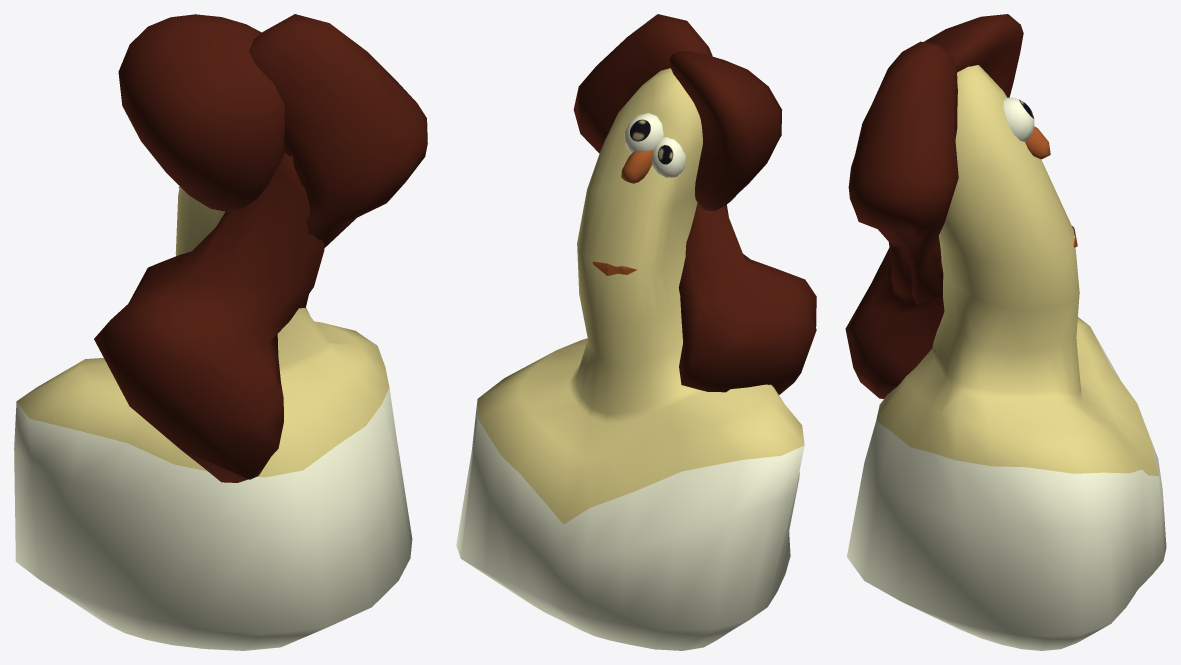
File: giant_2.glb
The picture shows the model from 3 angles, left to right: view 1: azimuth 30°, elevation 25°; view 2: azimuth 150°, elevation 25°; view 3: azimuth 270°, elevation 25°; orthographic projection. The views are drawn at different scales.
Visible parts, largest first — view 1: Sphere.008; view 2: Sphere.008; view 3: Sphere.008.
Boxes of the visible parts, x1=… form: Sphere.008: x1=14, y1=14, x2=427, y2=650; Sphere.008: x1=456, y1=14, x2=816, y2=650; Sphere.008: x1=845, y1=14, x2=1166, y2=650.
Bounding box in the file's own units: 4.5 × 7.22 × 3.71.
1 material, 1 textured.
